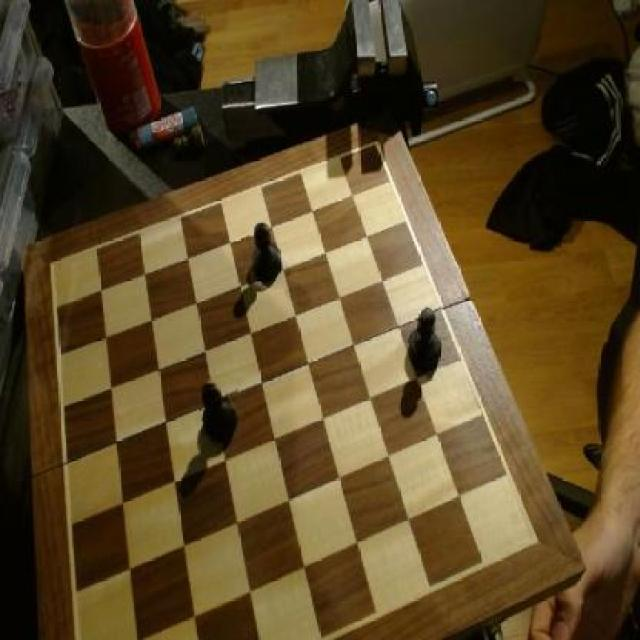black-knight: (198, 377, 241, 447), (408, 306, 444, 379), (250, 219, 284, 286)
